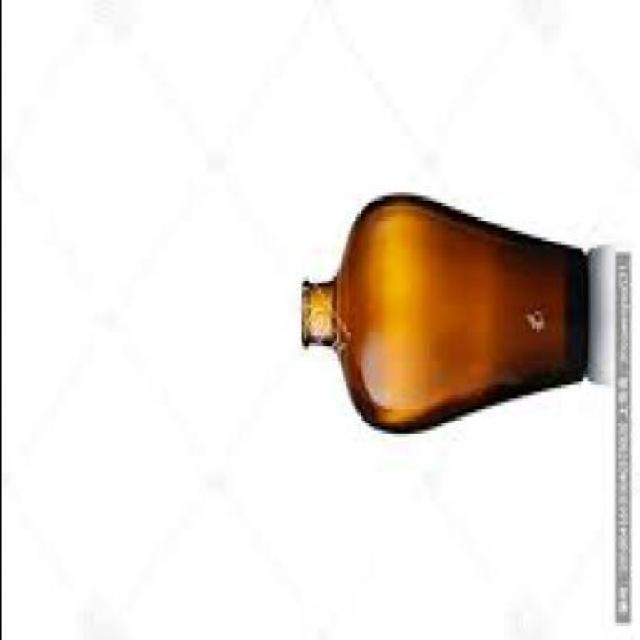glass: (296, 197, 586, 434)
